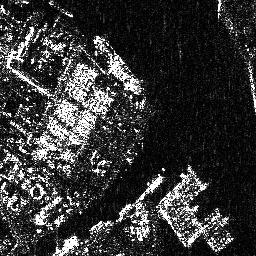ship: (91, 34, 144, 96)
